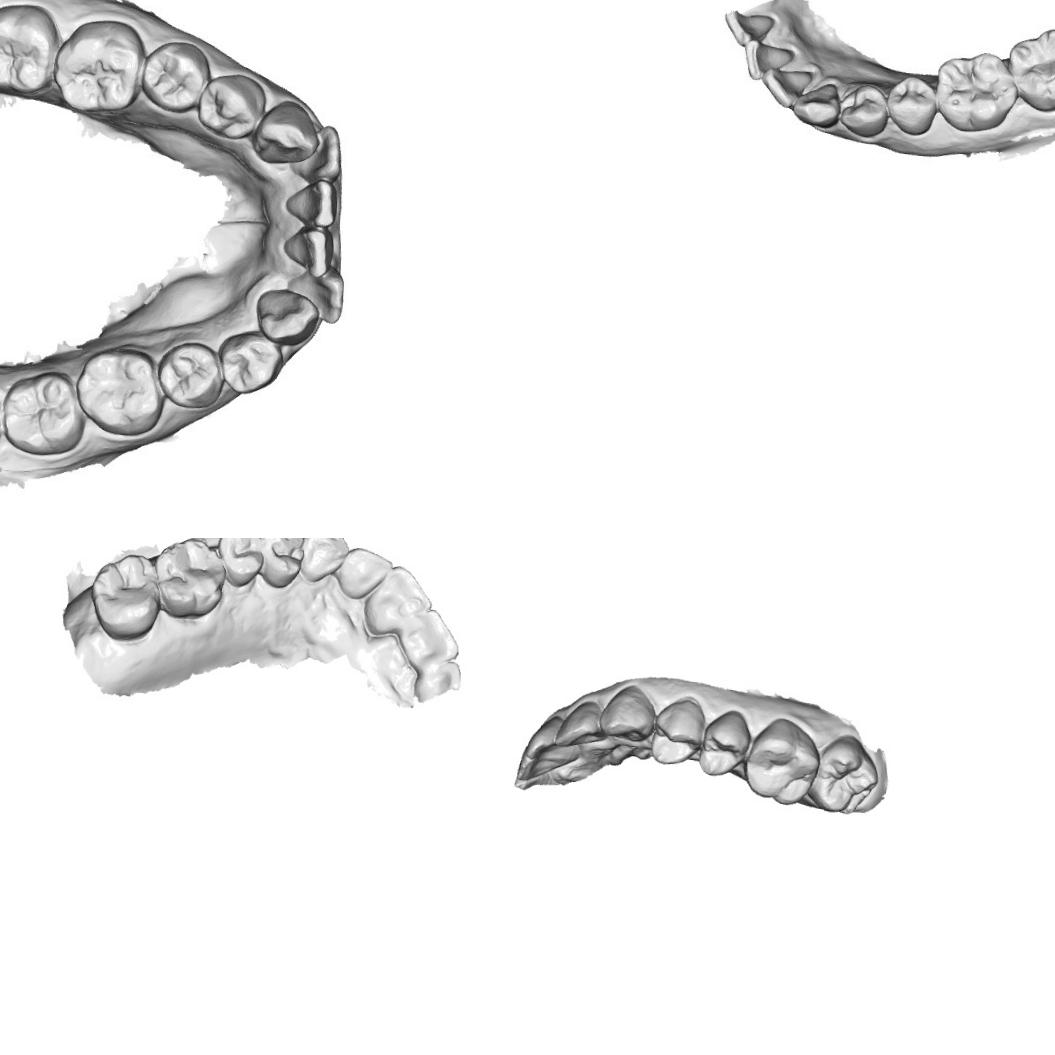canine: (258, 95, 316, 170), (598, 680, 659, 743), (256, 288, 316, 342), (790, 76, 843, 130), (296, 538, 351, 585)
incisor: (360, 562, 434, 640), (396, 605, 461, 673), (334, 544, 395, 600), (284, 178, 342, 233), (552, 696, 608, 750), (296, 124, 346, 184), (296, 264, 346, 322), (724, 4, 784, 45), (284, 222, 334, 269), (764, 58, 810, 109), (745, 36, 798, 80), (510, 752, 566, 793), (520, 714, 568, 760)
molar: (52, 16, 146, 110), (741, 715, 822, 809), (76, 350, 161, 438), (932, 48, 1016, 134), (86, 550, 162, 641), (2, 371, 84, 453), (151, 538, 227, 621), (813, 731, 883, 818), (0, 3, 62, 92), (1004, 20, 1055, 115)
premolar: (199, 62, 263, 141), (217, 326, 284, 396), (144, 36, 204, 112), (649, 694, 706, 769), (698, 706, 756, 778), (160, 340, 224, 405), (886, 72, 938, 136), (838, 80, 891, 142), (214, 538, 267, 590), (257, 538, 305, 589)
